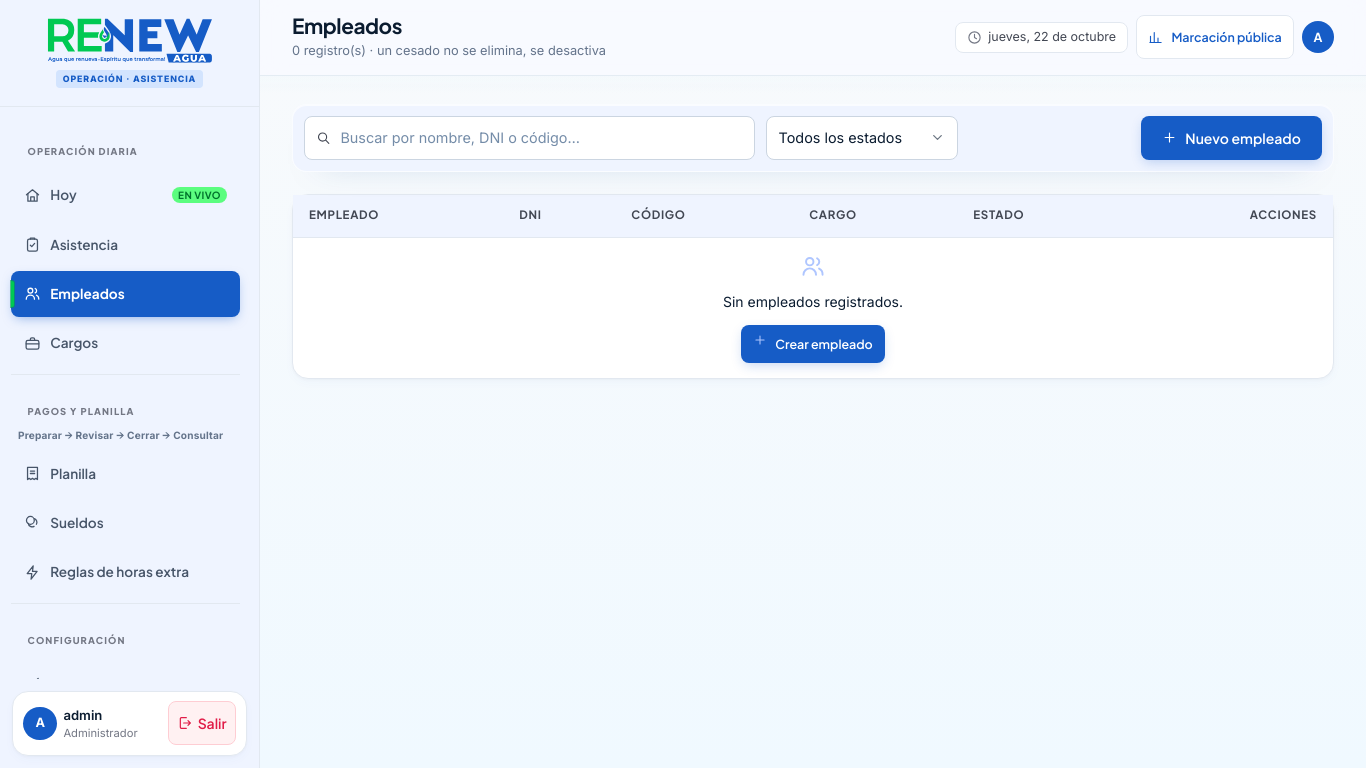
Admin · empleados: alta en diálogo › muestra el error de la consulta DNI dentro del diálogo
Click the button "Nuevo empleado": (1232, 138) x1=1141 y1=116 x2=1322 y2=160
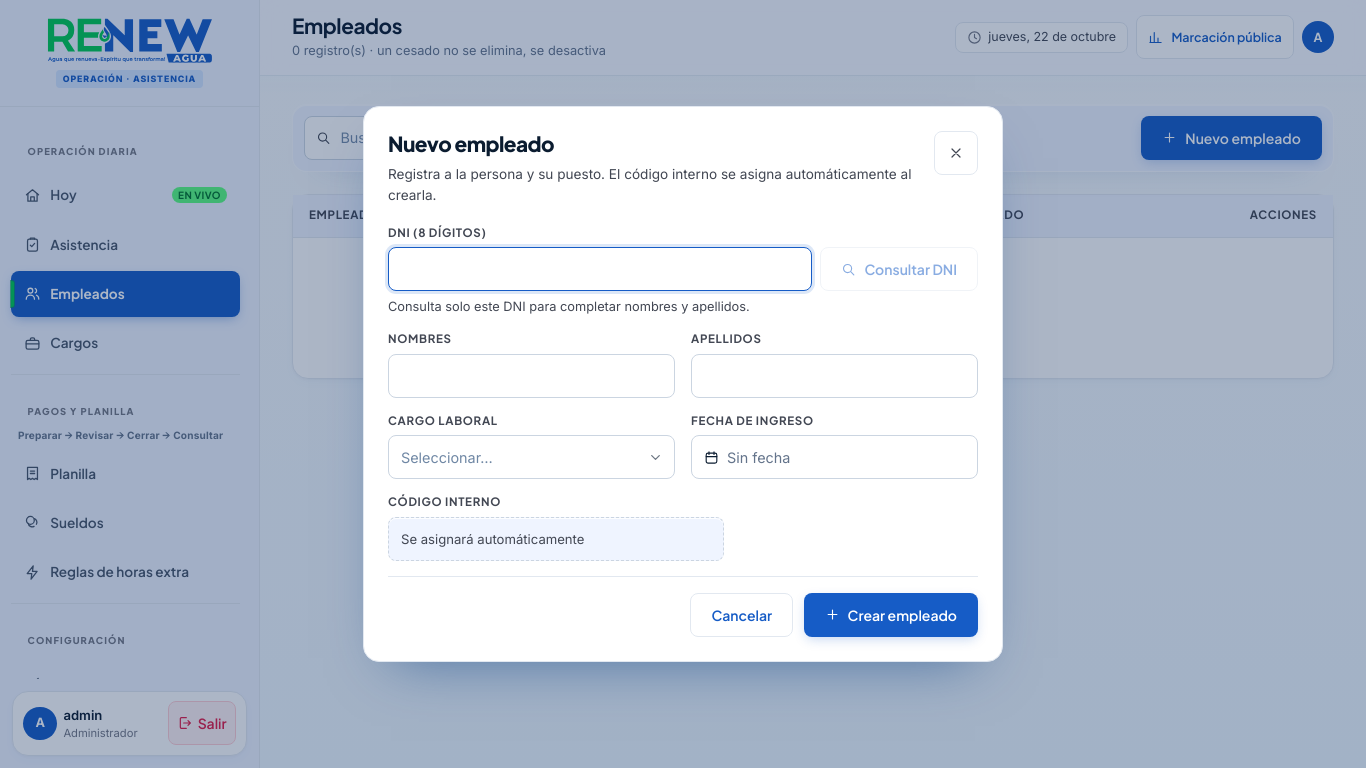
In the field labelled "DNI (8 dígitos)": (600, 269) x1=388 y1=247 x2=812 y2=291, type "70123456"
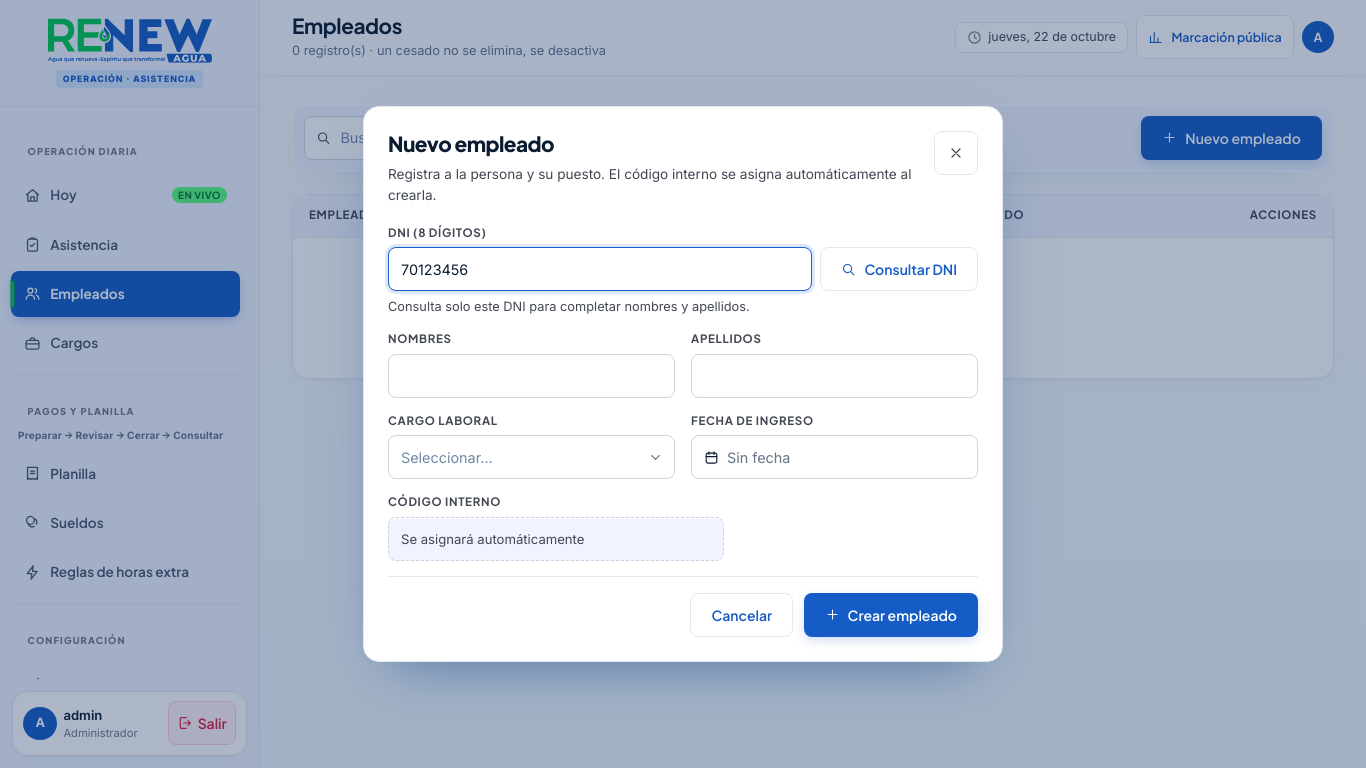
Click the button "Consultar DNI": (899, 269) x1=820 y1=247 x2=978 y2=291
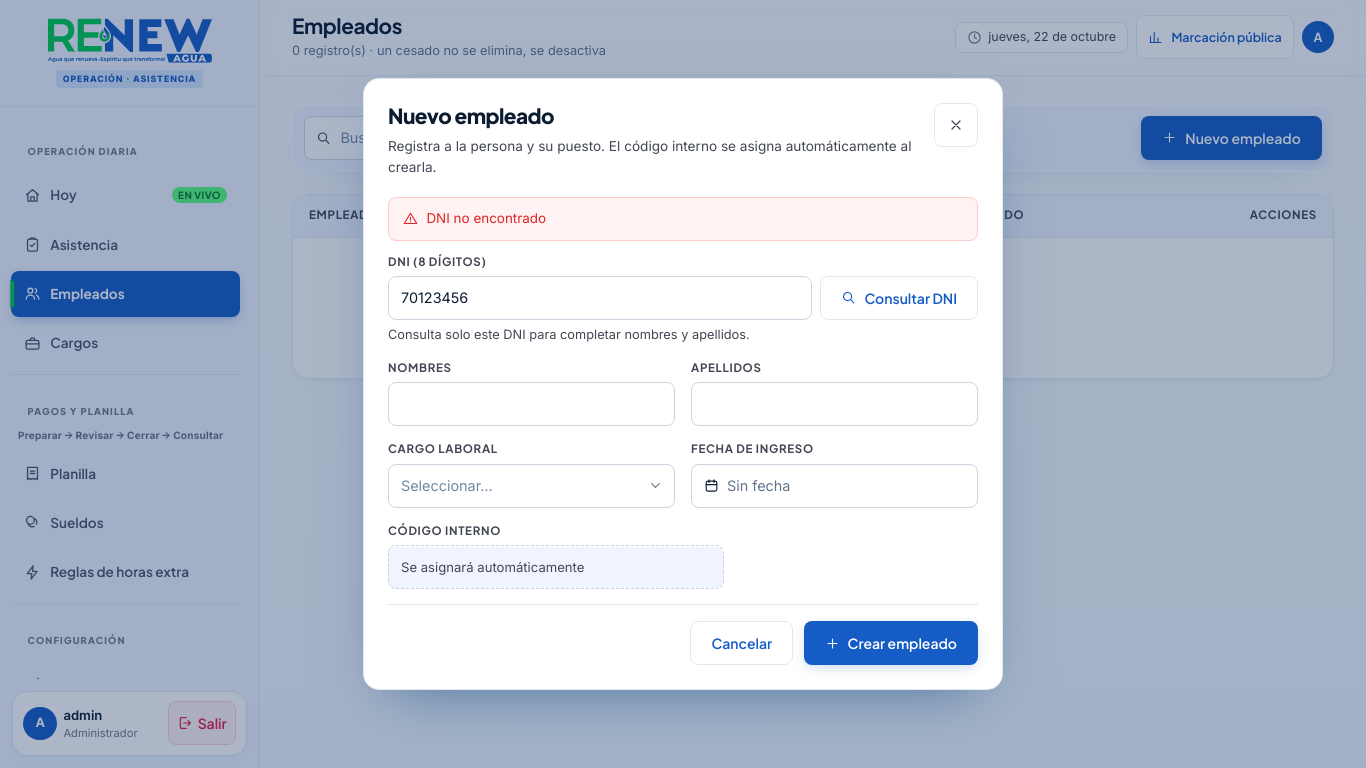
Now the message reads "DNI no encontrado", box x1=426 y1=210 x2=546 y2=226
